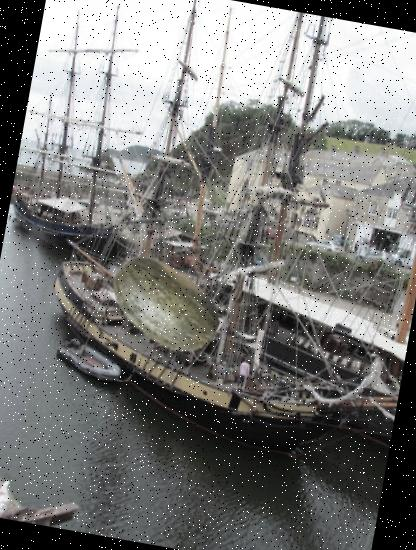Melon: (96, 235, 232, 372)
